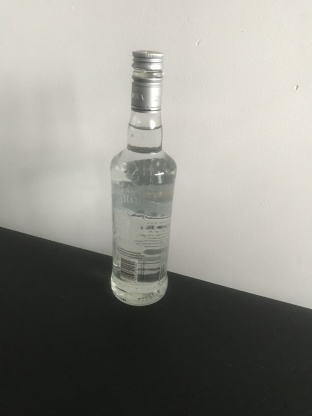nakretka: (129, 48, 164, 113)
